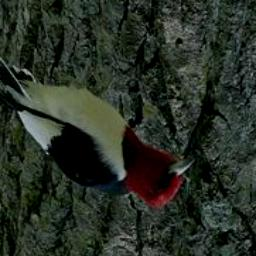Woodpecker: (0, 32, 204, 222)
